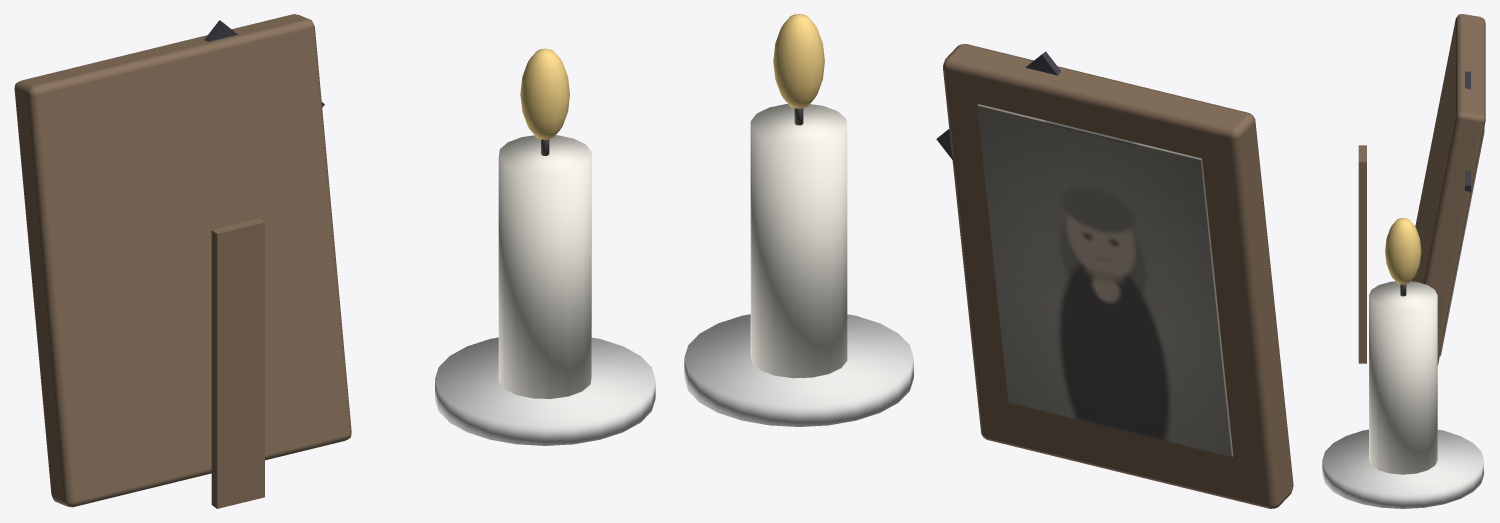
The model's file is escena.casa.vela_recuerdo.fbx.
3 renders of one model, left to right at view 1: azimuth 30°, elevation 25°; view 2: azimuth 150°, elevation 25°; view 3: azimuth 270°, elevation 25°, orthographic. The views are drawn at different scales.
Parts seen in each view (by area): view 1: Portarretrato, Vela, Pata del portarretrato, Platito, Llama; view 2: Foto, Portarretrato, Vela, Platito, Llama, Cinta negra; view 3: Vela, Portarretrato, Platito, Pata del portarretrato, Llama, Foto, Cinta negra.
Boxes of the visible parts, bbox=[...] form: Portarretrato: bbox=[14, 14, 351, 507]; Vela: bbox=[498, 135, 591, 398]; Pata del portarretrato: bbox=[211, 218, 264, 508]; Platito: bbox=[435, 337, 655, 445]; Llama: bbox=[520, 48, 569, 139]; Foto: bbox=[977, 104, 1233, 457]; Portarretrato: bbox=[943, 44, 1293, 508]; Vela: bbox=[750, 104, 847, 378]; Platito: bbox=[684, 314, 913, 426]; Llama: bbox=[773, 14, 824, 108]; Cinta negra: bbox=[936, 51, 1060, 162]; Vela: bbox=[1369, 281, 1437, 474]; Portarretrato: bbox=[1411, 14, 1485, 365]; Platito: bbox=[1322, 429, 1483, 508]; Pata del portarretrato: bbox=[1358, 145, 1366, 363]; Llama: bbox=[1385, 218, 1421, 284]; Foto: bbox=[1440, 127, 1484, 356]; Cinta negra: bbox=[1465, 71, 1470, 192].
Size of the model in its own units: 0.24 by 0.1655 by 0.0808.
Materials: 7 (1 with a texture image).
